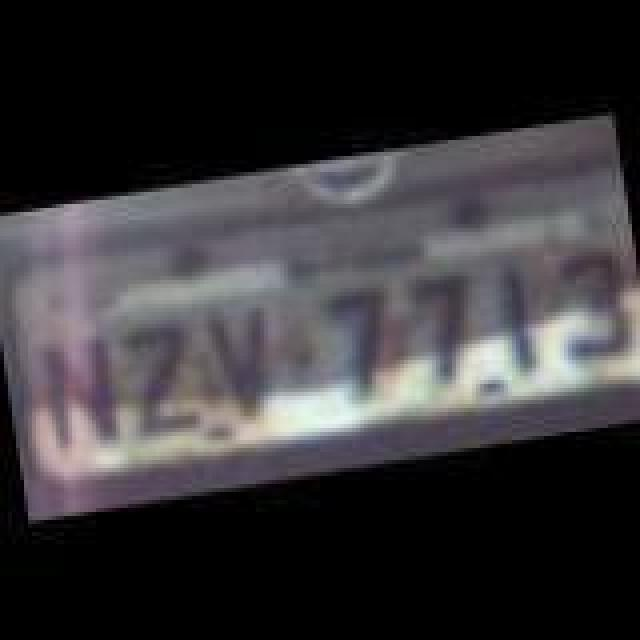1: (490, 256, 550, 376)
3: (550, 242, 634, 366)
7: (398, 270, 482, 398), (316, 278, 396, 406)
N: (32, 320, 128, 456)
V: (198, 294, 282, 422)
Z: (114, 310, 206, 442)
